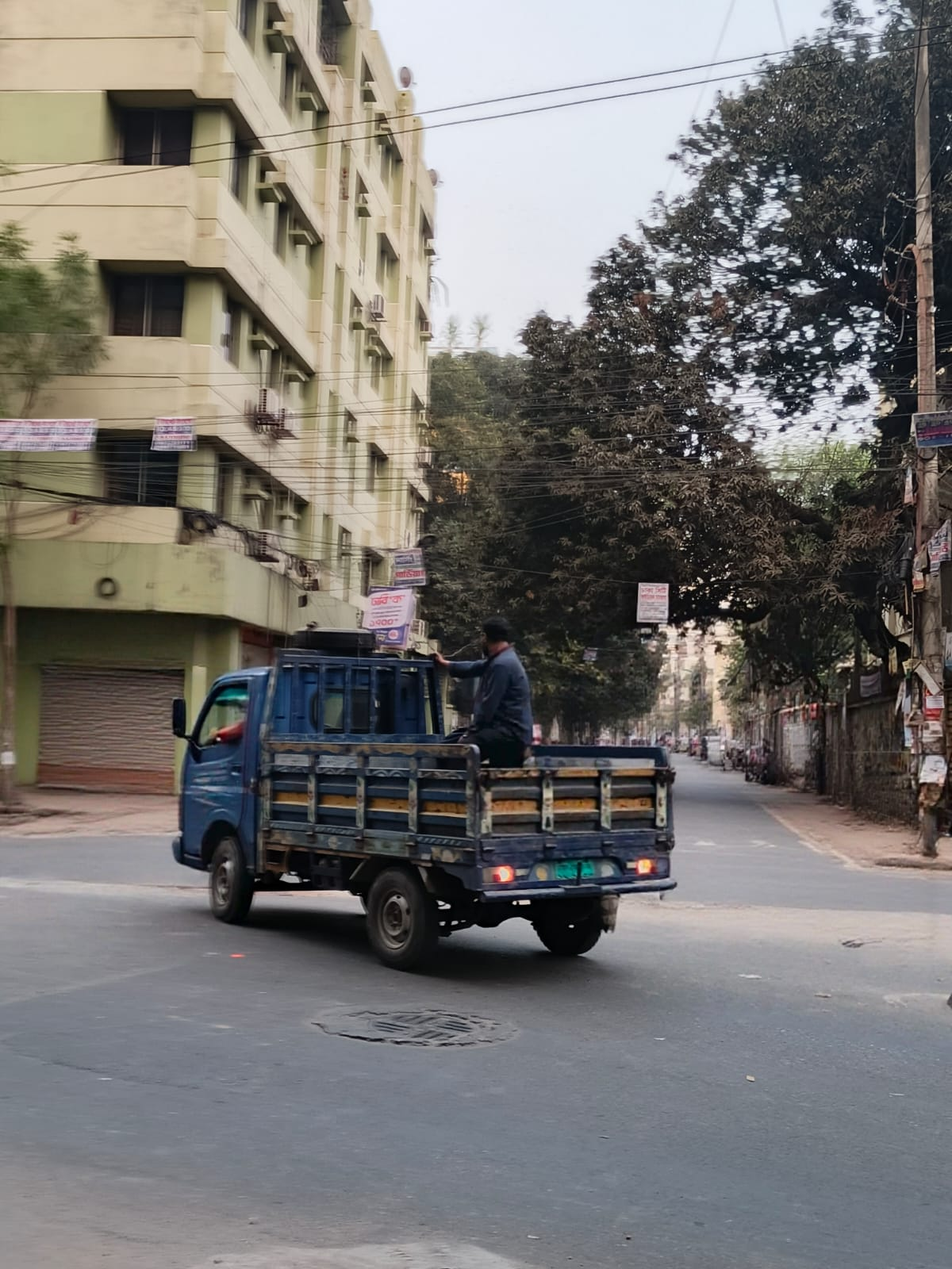Pickup: (163, 624, 685, 983)
